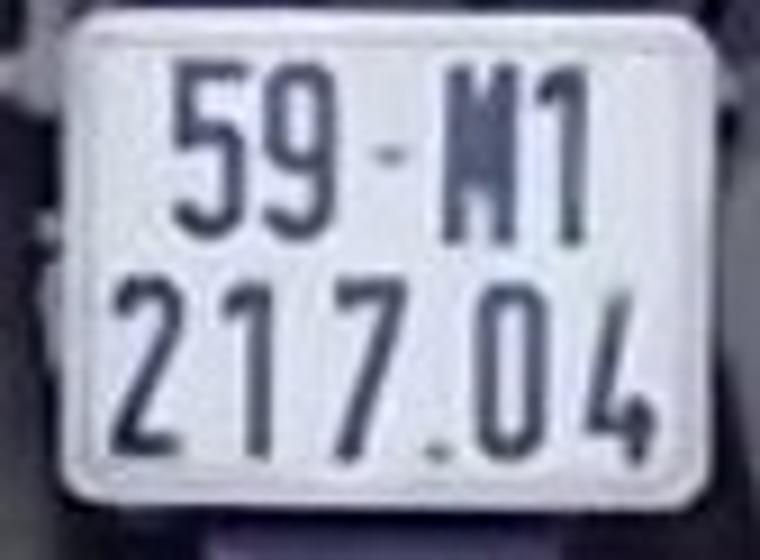-: (367, 138, 414, 175)
.: (417, 428, 460, 475)
0: (460, 267, 561, 466)
1: (533, 49, 606, 256), (212, 275, 289, 461)
2: (99, 272, 198, 467)
4: (580, 276, 673, 476)
5: (164, 57, 254, 244)
7: (321, 262, 415, 472)
9: (255, 58, 347, 244)
M: (432, 56, 531, 253)
